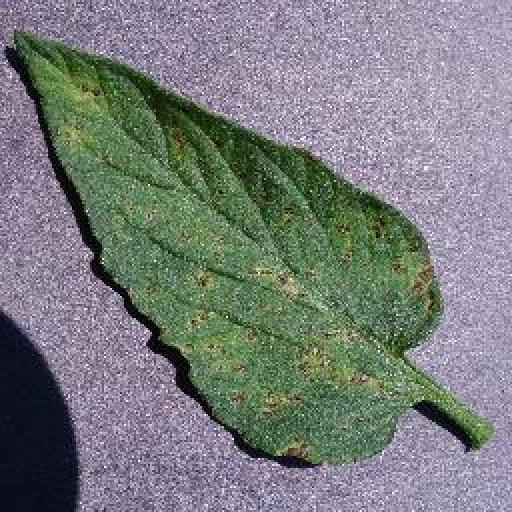Septoria: (17, 23, 440, 465)
